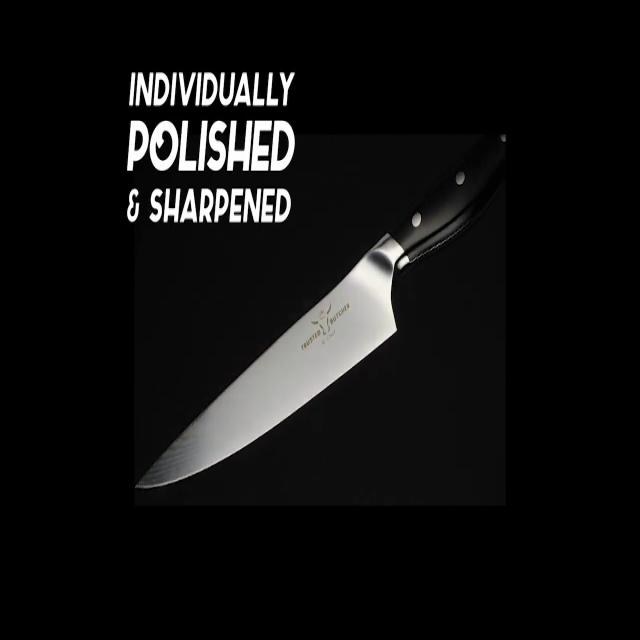Knife: (134, 163, 464, 488)
